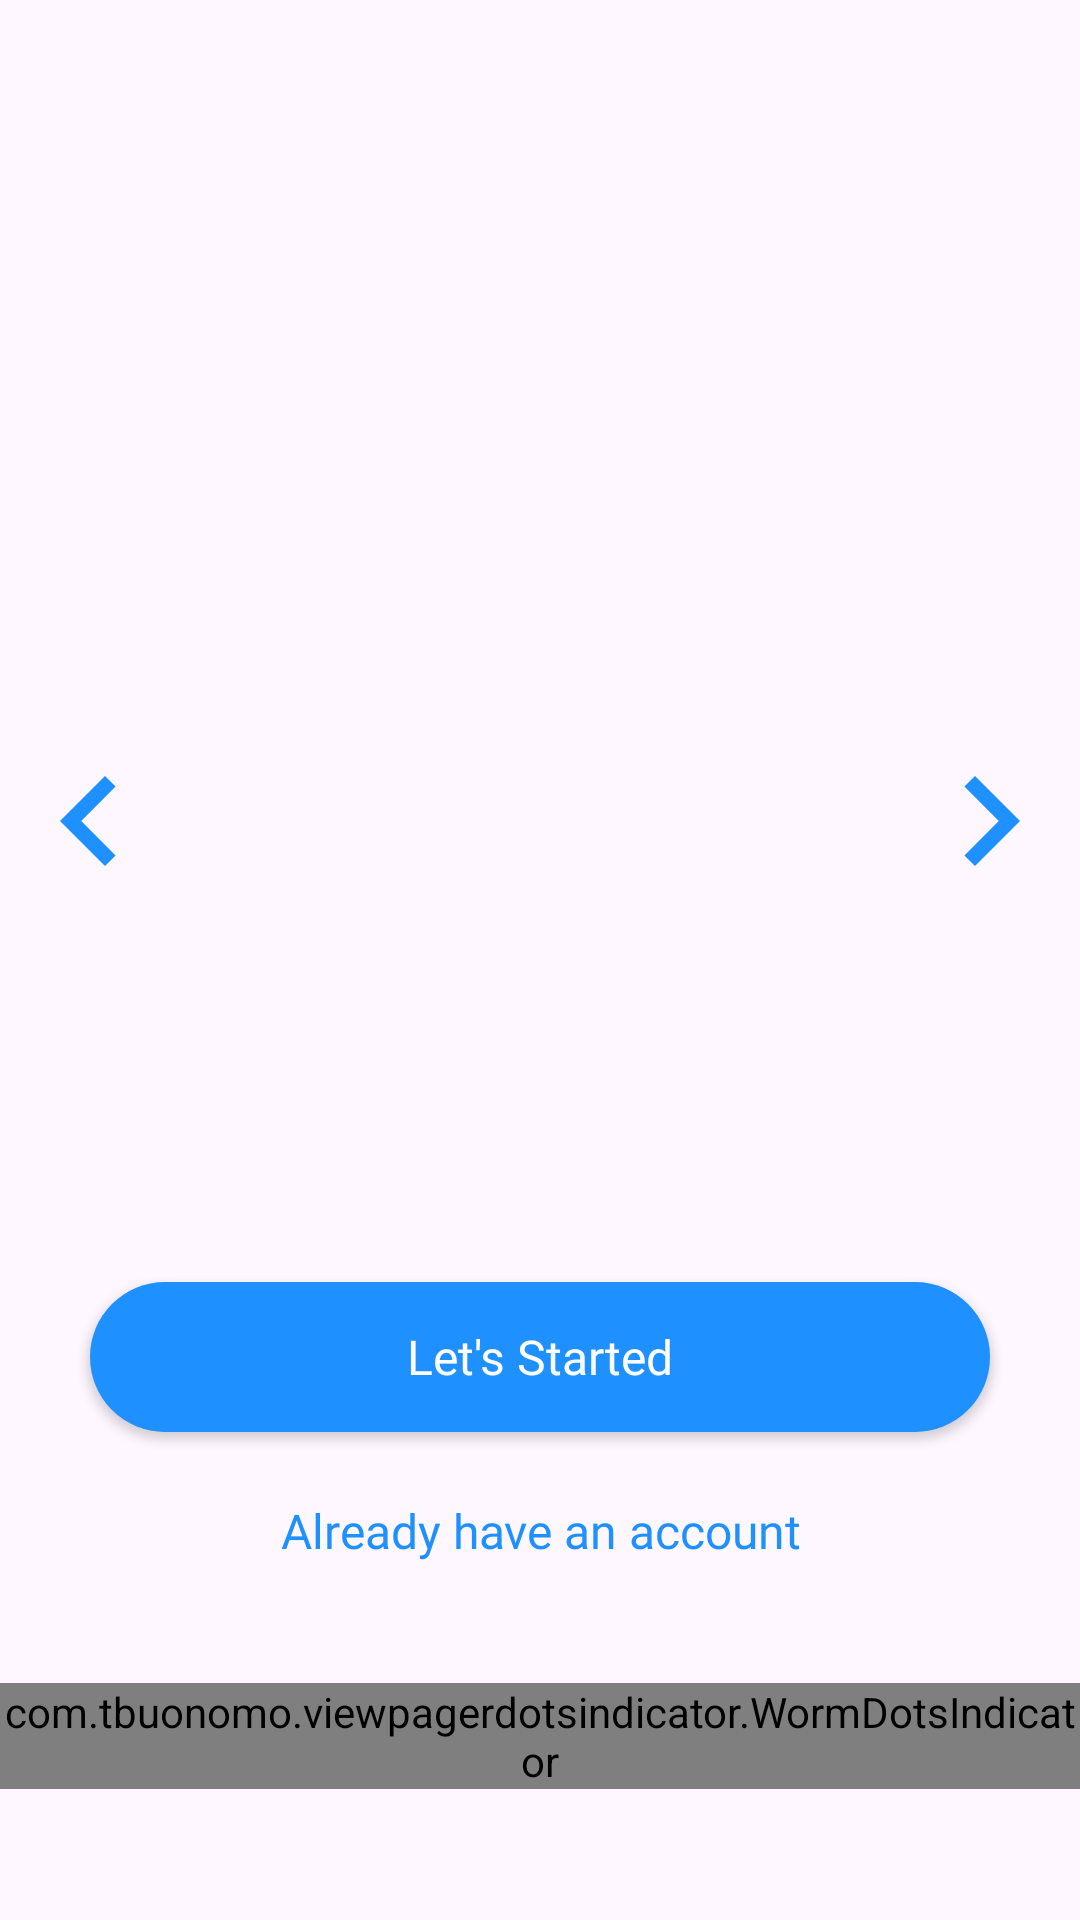

Icon bounding boxes for this 1080×1920 phone screenshot, format (x1, y1, x2, y2):
navigate before: (60, 776, 116, 866)
navigate next: (964, 776, 1020, 866)
